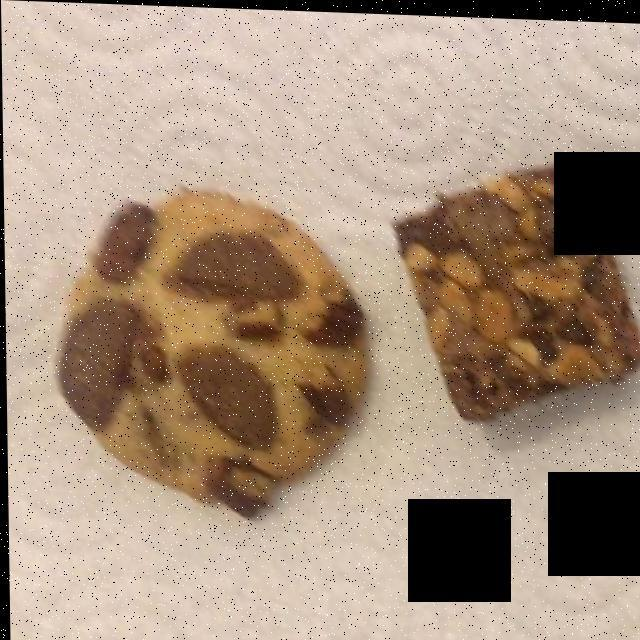brownie: (372, 152, 627, 422)
cookies: (47, 206, 346, 501)
